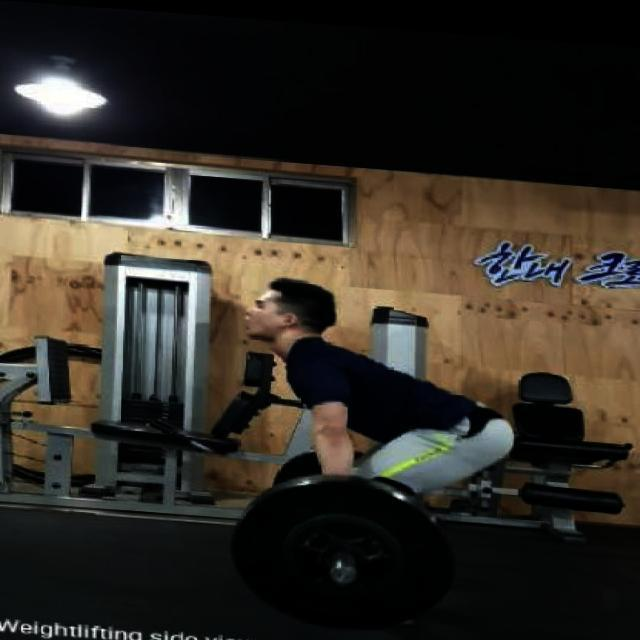barbell: (227, 465, 462, 635)
